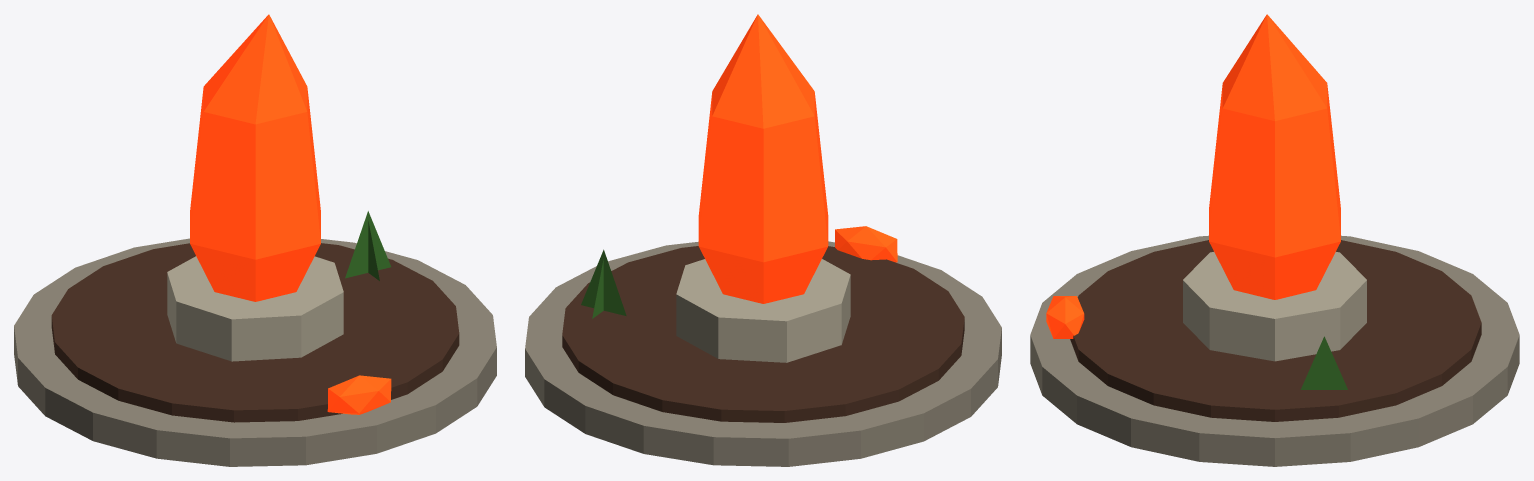
Rendered from topic_plot_weak.glb.
3 renders of one model, left to right at view 1: azimuth 30°, elevation 25°; view 2: azimuth 150°, elevation 25°; view 3: azimuth 270°, elevation 25°, orthographic. The views are drawn at different scales.
Parts seen in each view (by area): view 1: topic_plot_weak; view 2: topic_plot_weak; view 3: topic_plot_weak.
Part boxes in pixels (x1,y1,x2,y2): topic_plot_weak: (14,14,496,466); topic_plot_weak: (525,14,1001,466); topic_plot_weak: (1030,14,1519,466).
Bounding box in the file's own units: 1.54 × 1.23 × 1.54.
